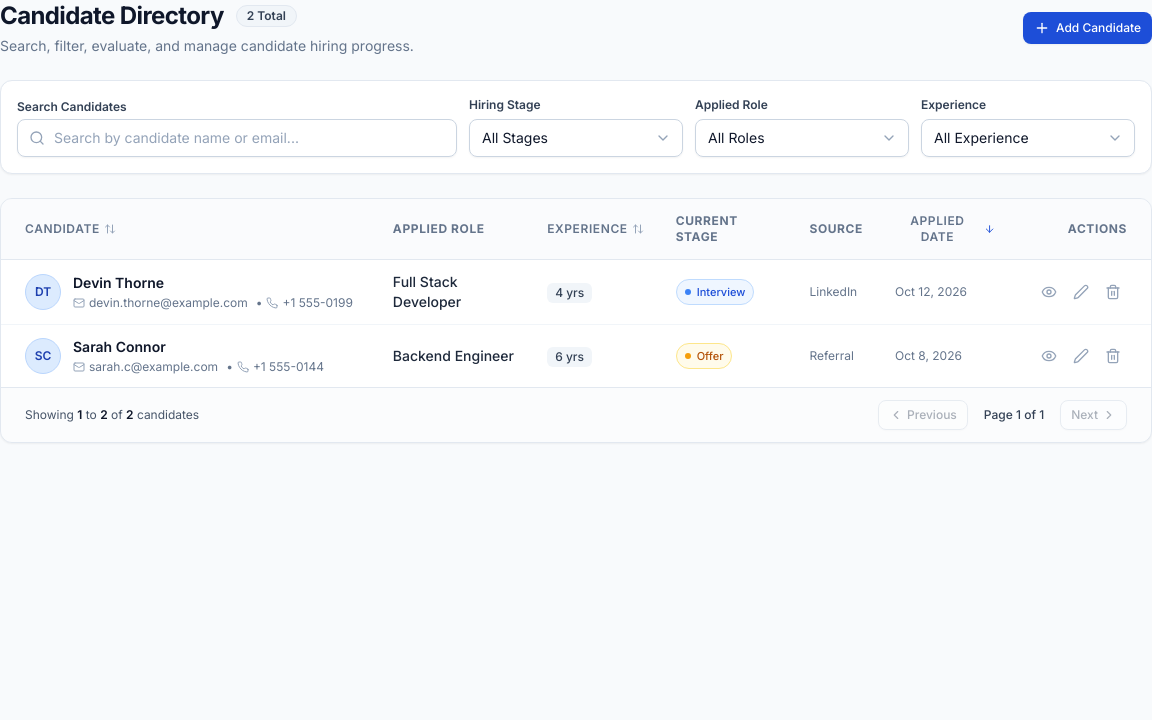
Phase 4: Candidate Integration Workflows & API Service › CandidatesPage Integration UI Flows › opens Add Candidate modal and validates mandatory inputs
Expected: the text "Devin Thorne" is shown, [73,274,164,291]
# Click Add Candidate button
Click the button "Add Candidate".
click(1088, 28)  # box [1023,12,1151,44]
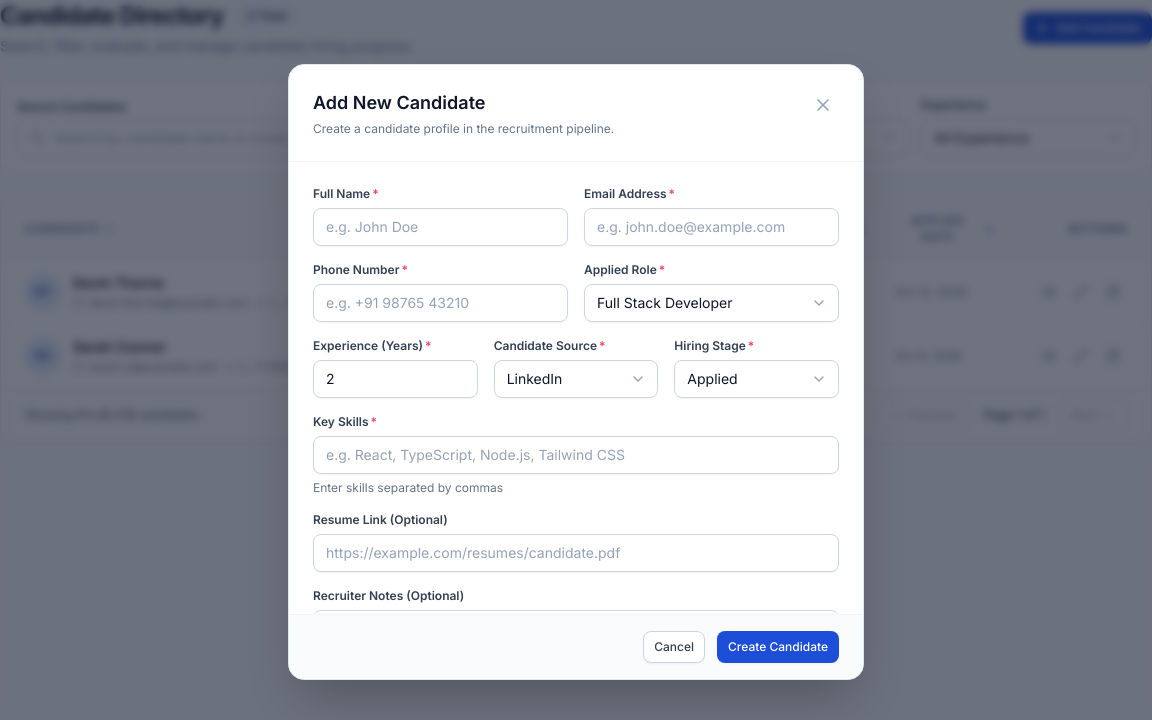
Expected: the heading "Add New Candidate" is shown, [313,92,486,113]
# Submit empty form
Click the button "Create Candidate".
click(778, 647)  # box [717,631,839,663]
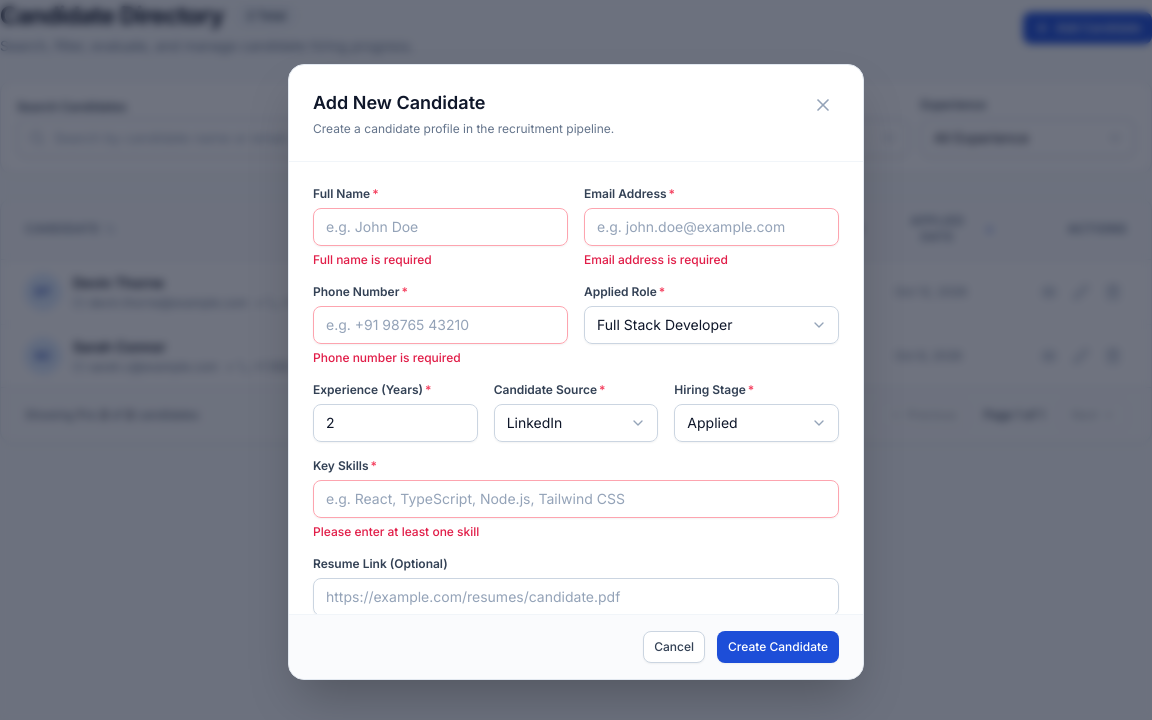
Expected: the text "Full name is required" is shown, [313,252,432,267]
Expected: the text "Email address is required" is shown, [584,252,728,267]
Expected: the text "Phone number is required" is shown, [313,350,461,365]
